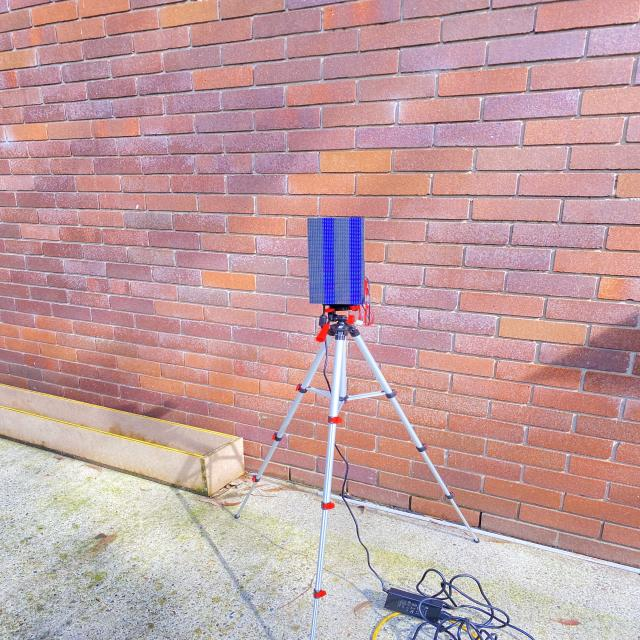matrix: (303, 214, 372, 309)
